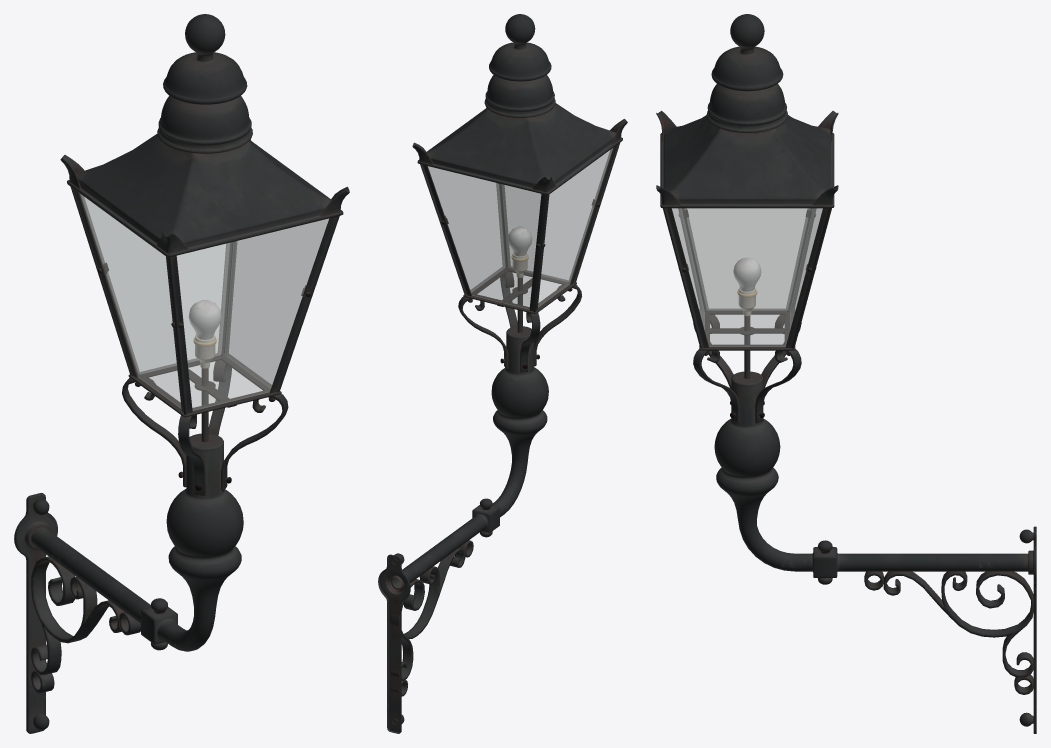
The model's file is street-lamp-02.glb.
3 renders of one model, left to right at view 1: azimuth 30°, elevation 25°; view 2: azimuth 150°, elevation 25°; view 3: azimuth 270°, elevation 25°, orthographic. The views are drawn at different scales.
Visible parts, largest first — view 1: street_lamp_02; view 2: street_lamp_02; view 3: street_lamp_02.
Part boxes in pixels (x1,y1,x2,y2): street_lamp_02: [14, 14, 349, 733]; street_lamp_02: [378, 14, 627, 733]; street_lamp_02: [656, 14, 1036, 733].
Size of the model in its own units: 0.3865 by 1.68 by 0.8067.
2 materials, 1 textured.
